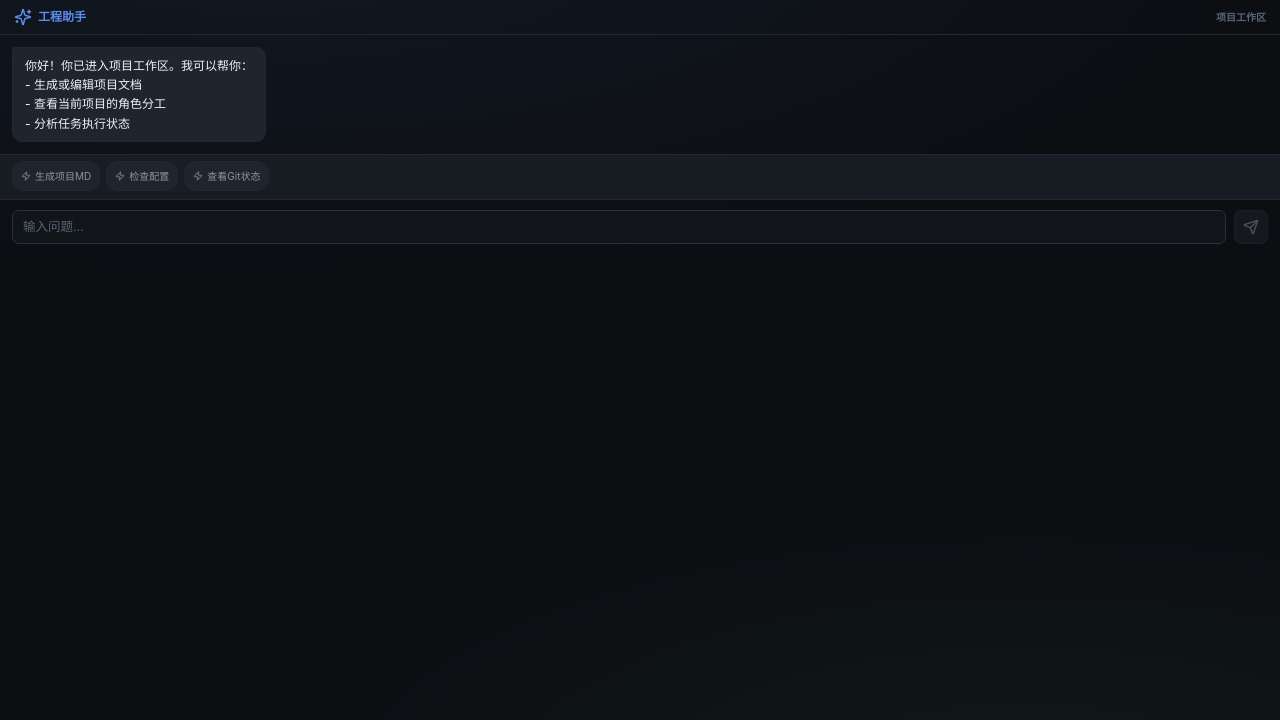
Scenario: AI Assistant › responds to 生成项目MD query
Type "生成项目MD" into the field with placeholder "输入问题..." at (619, 227), box x1=12 y1=210 x2=1226 y2=244
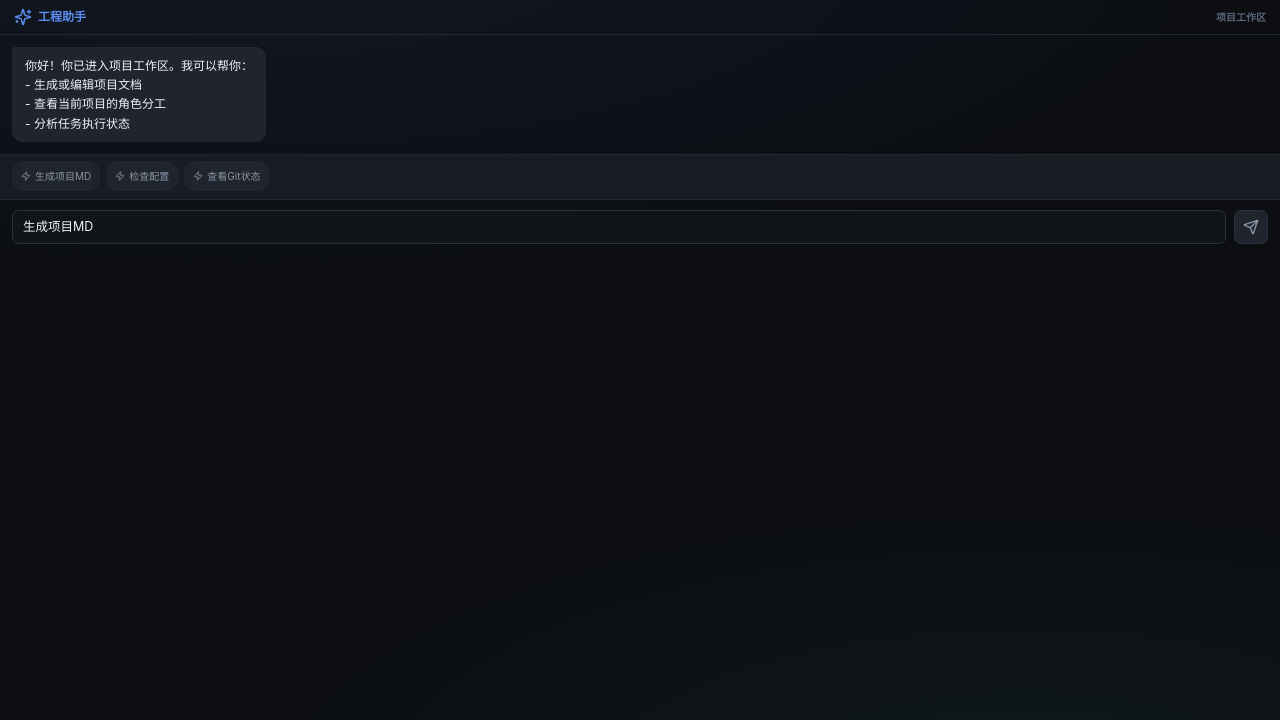
Press Enter in the field with placeholder "输入问题...", box x1=12 y1=210 x2=1226 y2=244
(page scrolled)
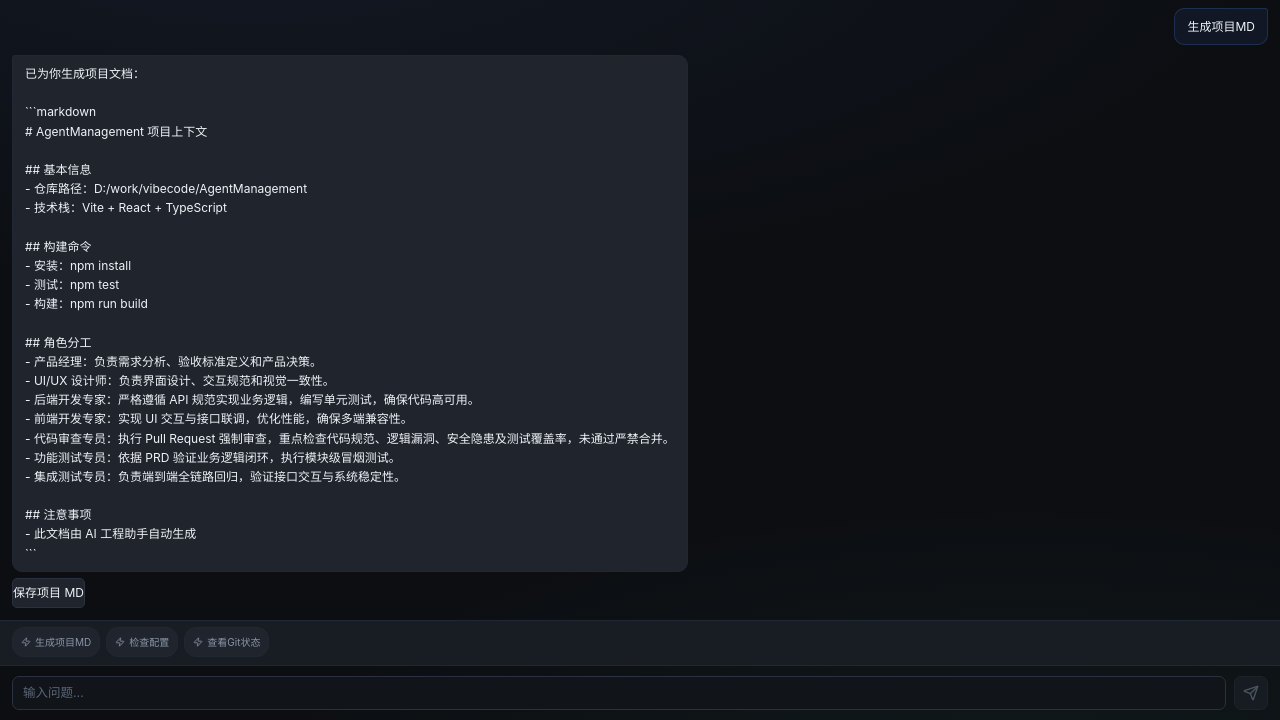
Result: the button "保存项目 MD" is shown at x1=12 y1=578 x2=85 y2=608
